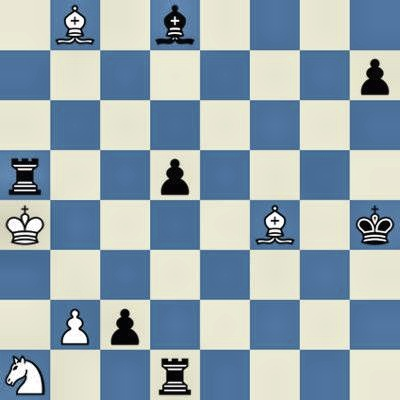black-bishop: (150, 0, 200, 50)
black-king: (350, 200, 400, 250)
black-pawn: (350, 50, 400, 100), (150, 150, 200, 200), (100, 300, 150, 350)
black-rook: (0, 150, 50, 200), (150, 350, 200, 400)
white-bishop: (50, 0, 100, 50), (250, 200, 300, 250)
white-king: (0, 200, 50, 250)
white-knight: (0, 350, 50, 400)
white-pawn: (50, 300, 100, 350)
